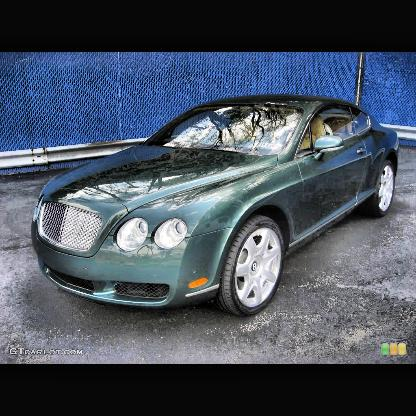Bentley Continental GT Coupe 2007: (31, 94, 404, 316)
